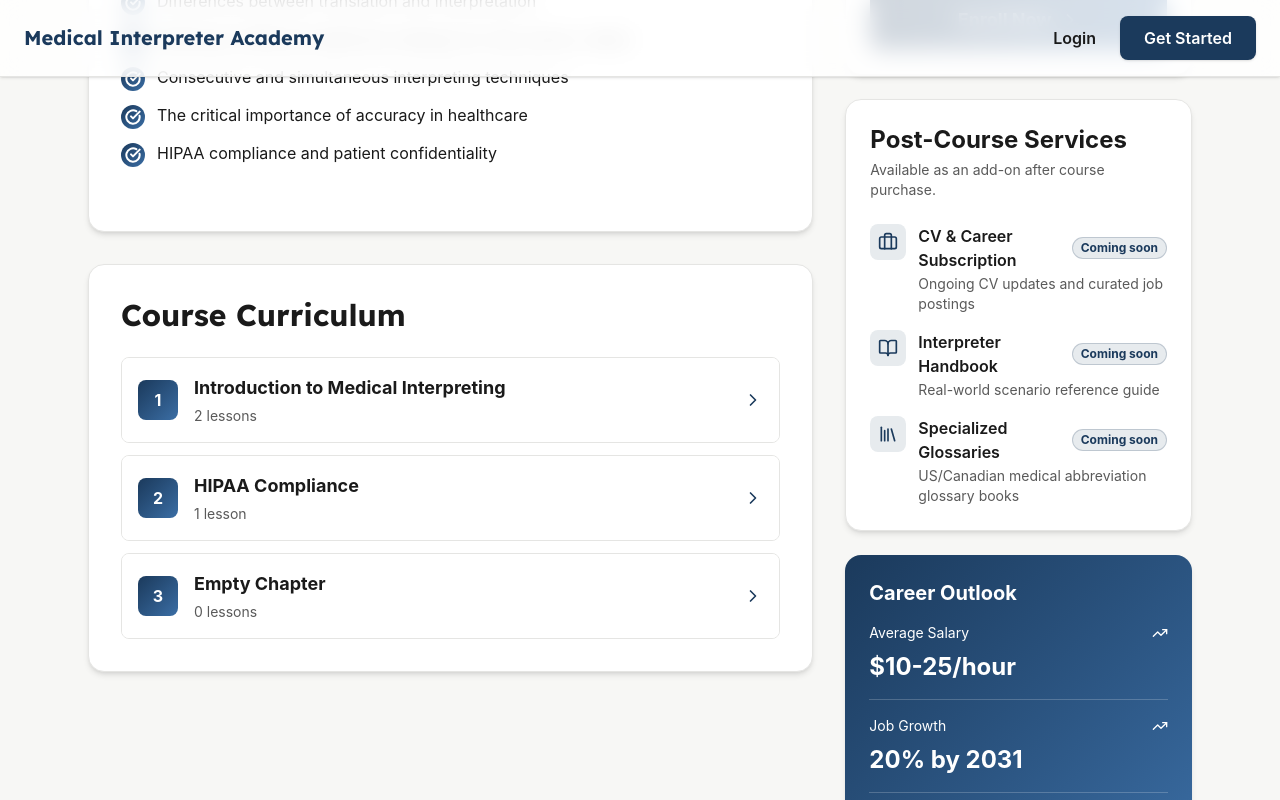
CourseDetail Page › Chapter Accordion › should collapse chapter when clicked again
(page scrolled)
Expected: the heading "Introduction to Medical Interpreting" is shown, x1=194 y1=377 x2=506 y2=398
Click the button "1 Introduction to Medical Interpreting 2 lessons" at (451, 400), box x1=122 y1=358 x2=779 y2=442
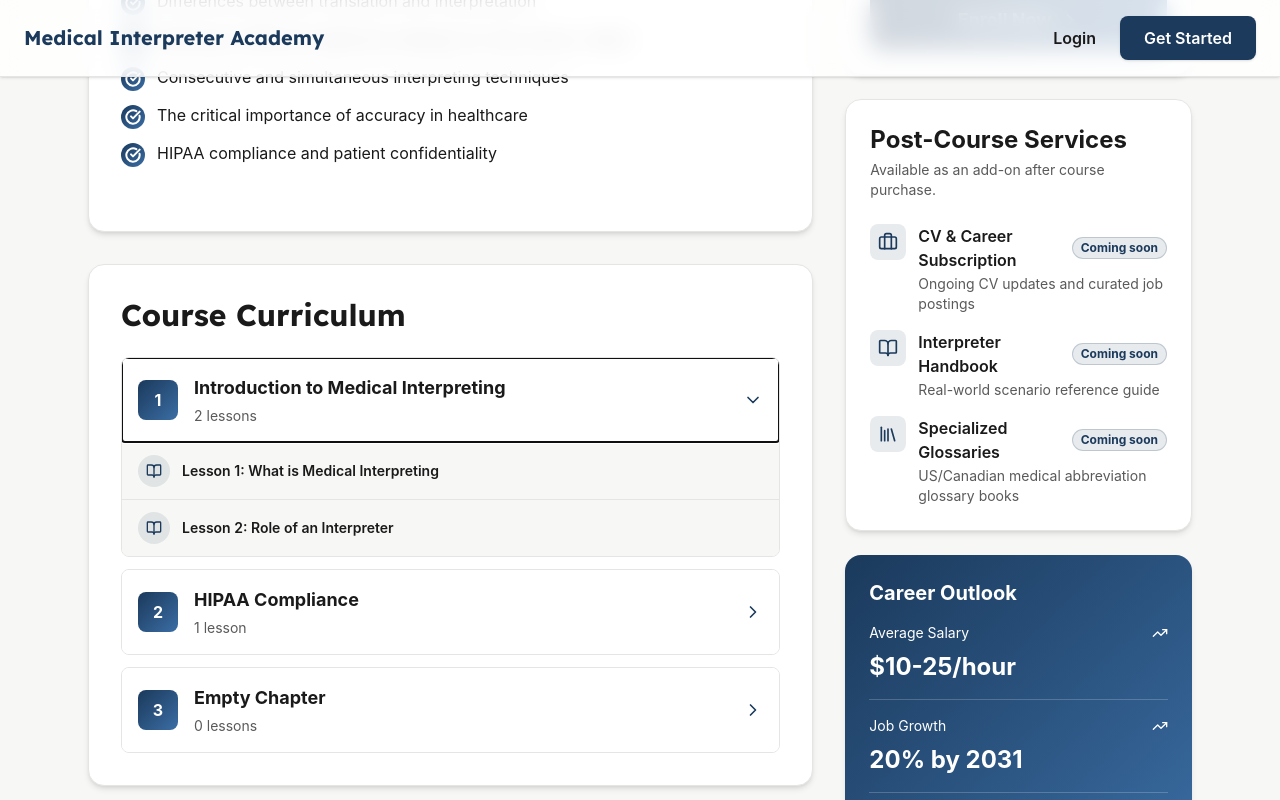
Expected: the text "Lesson 1: What is Medical Interpreting" is shown, x1=182 y1=462 x2=439 y2=479
Click the button "1 Introduction to Medical Interpreting 2 lessons" at (451, 400), box x1=122 y1=358 x2=779 y2=442
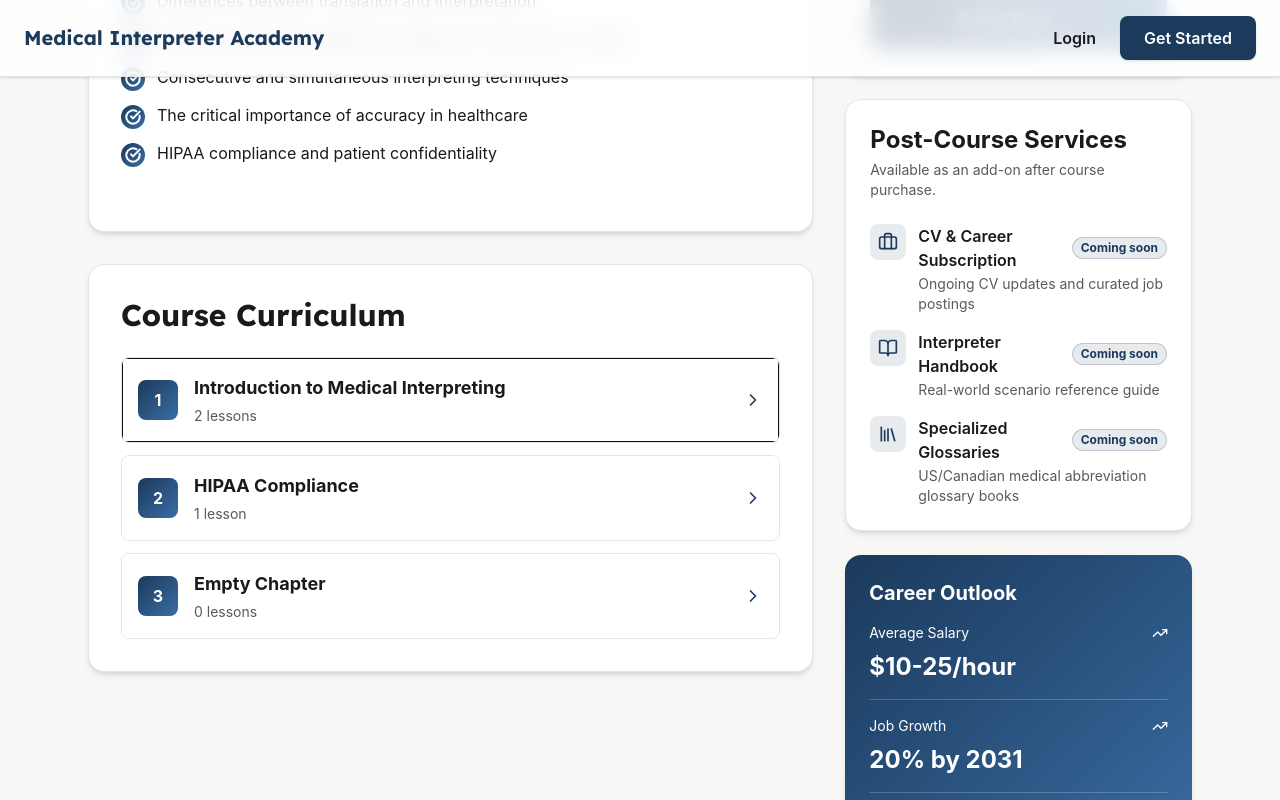
Expected: the text "Lesson 1: What is Medical Interpreting" is gone
